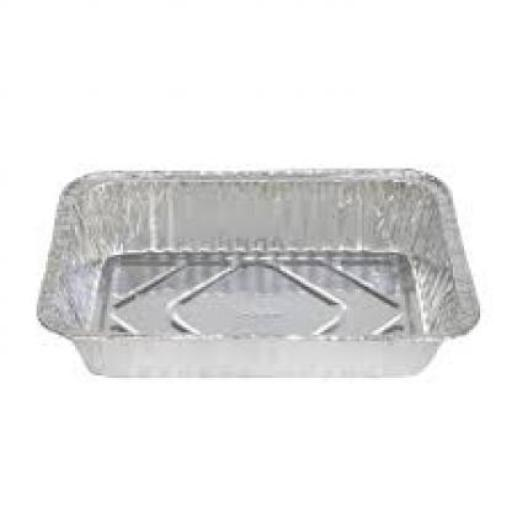metal: (34, 166, 478, 376)
